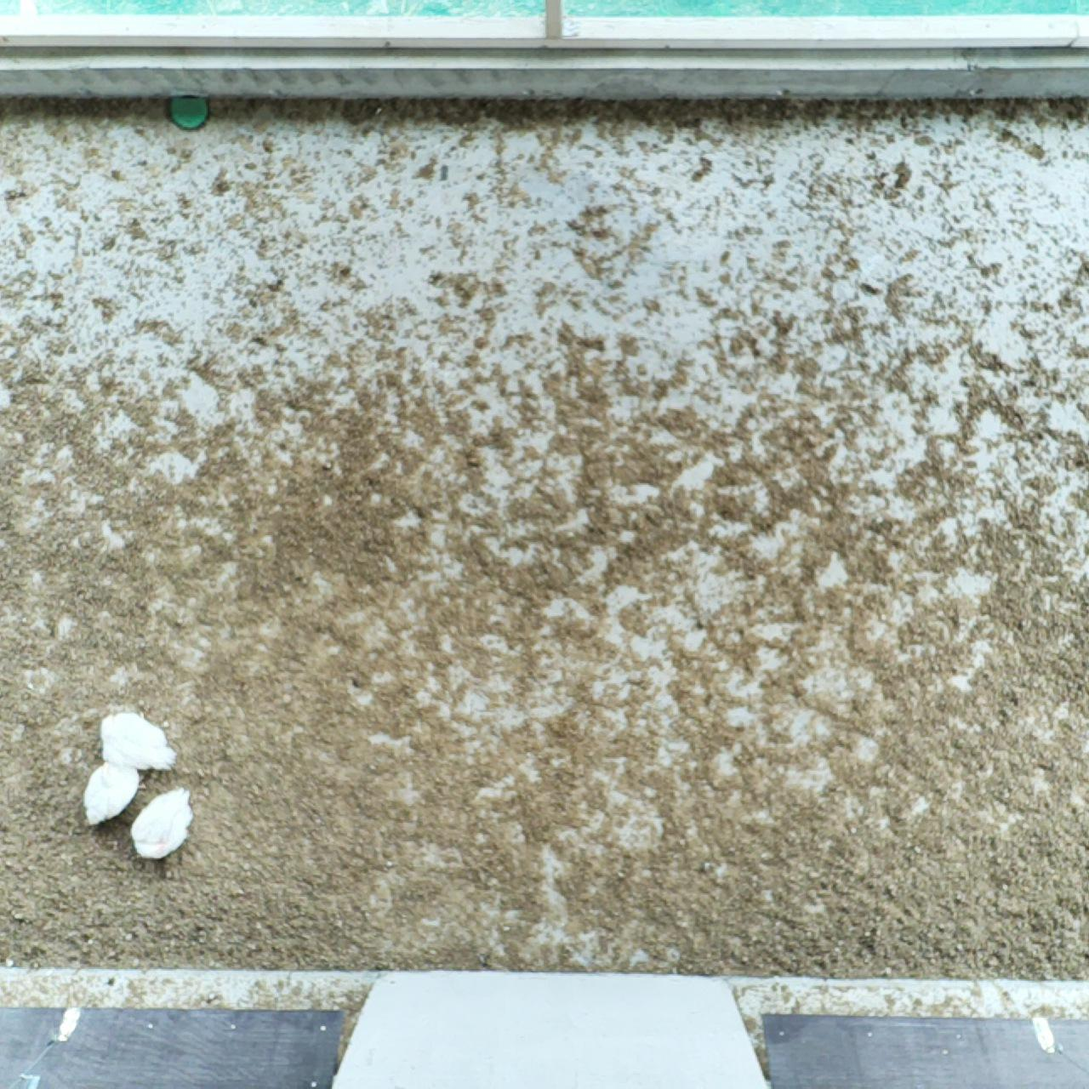chicken: (125, 783, 200, 861), (96, 707, 178, 778), (79, 755, 138, 828)
